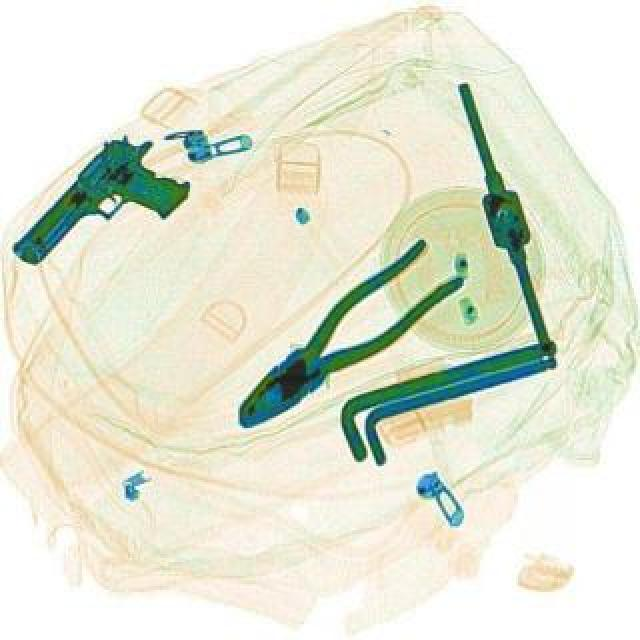gun: (6, 122, 202, 310)
wrench: (214, 234, 466, 450)
